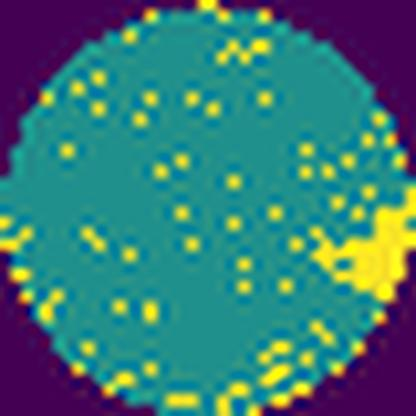Edge-Loc: (304, 186, 415, 303)
